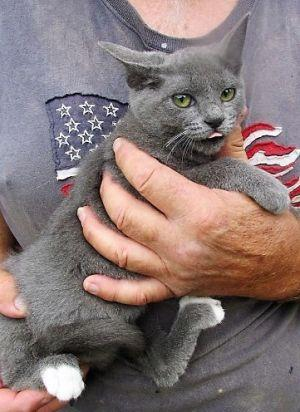rblue: (100, 12, 274, 169)
